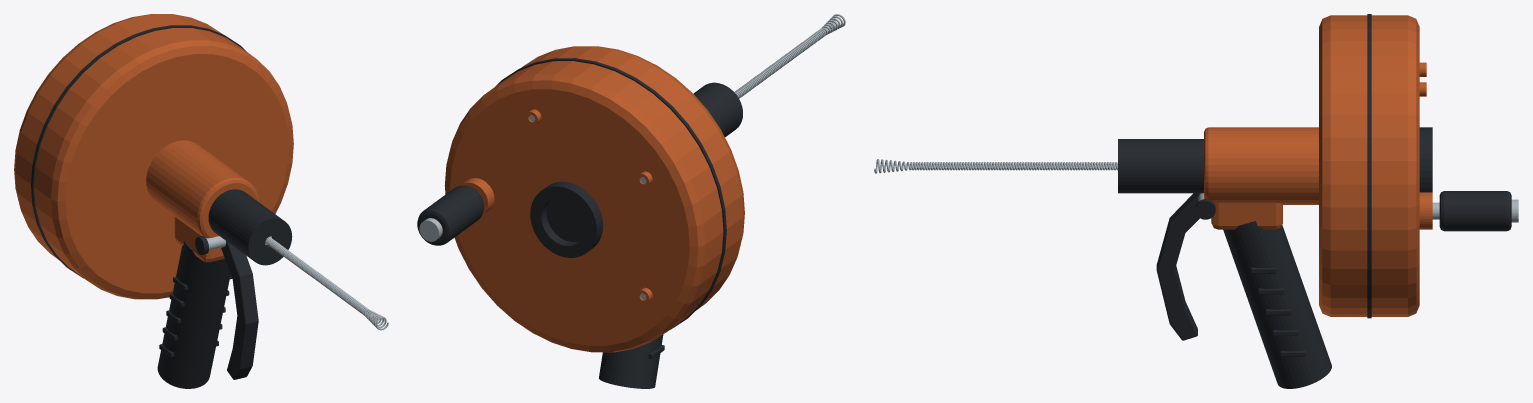
The model's file is full.glb.
The picture shows the model from 3 angles, left to right: view 1: azimuth 30°, elevation 25°; view 2: azimuth 150°, elevation 25°; view 3: azimuth 270°, elevation 25°; orthographic projection. The views are drawn at different scales.
Parts seen in each view (by area): view 1: Closed shallow cable drum, Angled pistol handgrip, Front axial neck, Hollow cable feed nose, Separate curved trigger, Drum perimeter seam, Continuous spring cable and open coil tip, Handle supporting saddle; view 2: Closed shallow cable drum, Rear central recess rim, Angled pistol handgrip, Short rear winding grip, Drum perimeter seam, Hollow cable feed nose, Rear recessed backing, Continuous spring cable and open coil tip, Offset crank mounting boss, Crank outer retainer; view 3: Closed shallow cable drum, Angled pistol handgrip, Front axial neck, Hollow cable feed nose, Separate curved trigger, Short rear winding grip, Continuous spring cable and open coil tip, Handle supporting saddle, Drum perimeter seam, Rear central recess rim.
Part boxes in pixels (<box>): Closed shallow cable drum: <box>14,14,293,299</box>; Angled pistol handgrip: <box>157,241,230,388</box>; Front axial neck: <box>146,140,259,238</box>; Hollow cable feed nose: <box>208,189,292,265</box>; Separate curved trigger: <box>221,241,258,379</box>; Drum perimeter seam: <box>31,25,246,278</box>; Continuous spring cable and open coil tip: <box>265,236,388,330</box>; Handle supporting saddle: <box>174,216,224,262</box>; Closed shallow cable drum: <box>444,46,744,352</box>; Rear central recess rim: <box>530,181,603,257</box>; Angled pistol handgrip: <box>599,334,663,388</box>; Short rear winding grip: <box>417,185,483,245</box>; Drum perimeter seam: <box>495,58,726,329</box>; Hollow cable feed nose: <box>693,82,742,137</box>; Rear recessed backing: <box>546,198,585,241</box>; Continuous spring cable and open coil tip: <box>734,14,845,98</box>; Offset crank mounting boss: <box>461,178,494,214</box>; Crank outer retainer: <box>419,218,442,241</box>; Closed shallow cable drum: <box>1319,15,1419,316</box>; Angled pistol handgrip: <box>1223,221,1331,388</box>; Front axial neck: <box>1204,127,1318,204</box>; Hollow cable feed nose: <box>1118,139,1203,193</box>; Separate curved trigger: <box>1156,193,1200,340</box>; Short rear winding grip: <box>1439,191,1511,231</box>; Continuous spring cable and open coil tip: <box>874,159,1117,173</box>; Handle supporting saddle: <box>1211,202,1282,229</box>; Drum perimeter seam: <box>1367,14,1371,318</box>; Rear central recess rim: <box>1419,127,1432,192</box>.
Bounding box in the file's own units: 0.212 × 0.2721 × 0.4486.
